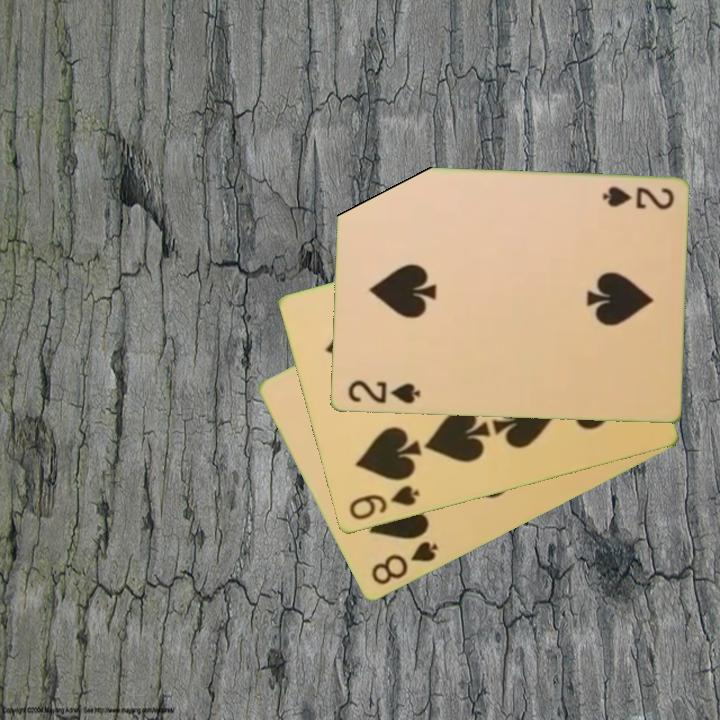2s: (344, 377, 423, 407), (598, 183, 676, 213)
8s: (367, 538, 441, 589)
9s: (345, 482, 422, 524)
